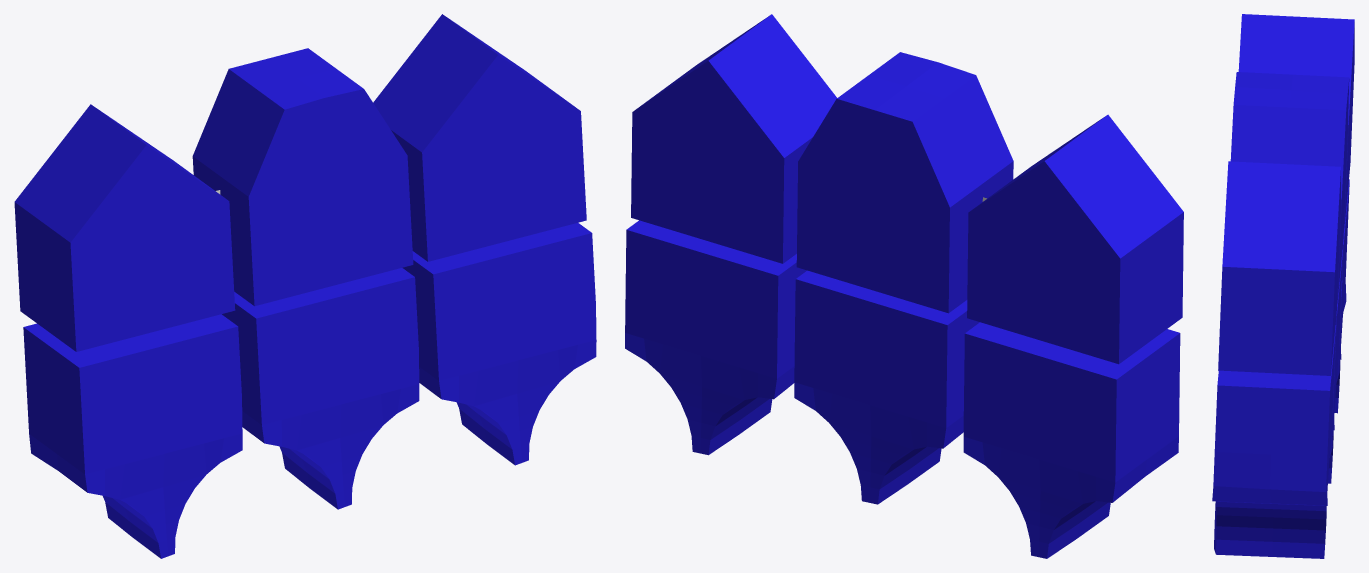
The model's file is asset.gltf.
The picture shows the model from 3 angles, left to right: view 1: azimuth 30°, elevation 25°; view 2: azimuth 150°, elevation 25°; view 3: azimuth 270°, elevation 25°; orthographic projection. The views are drawn at different scales.
Visible parts, largest first — view 1: Cube; view 2: Cube; view 3: Cube.
Boxes of the visible parts, x1,y1,x2,y2 form: Cube: (14,14,596,558); Cube: (625,14,1183,558); Cube: (1212,14,1354,558).
Size of the model in its own units: 9.93 by 7.79 by 2.53.
